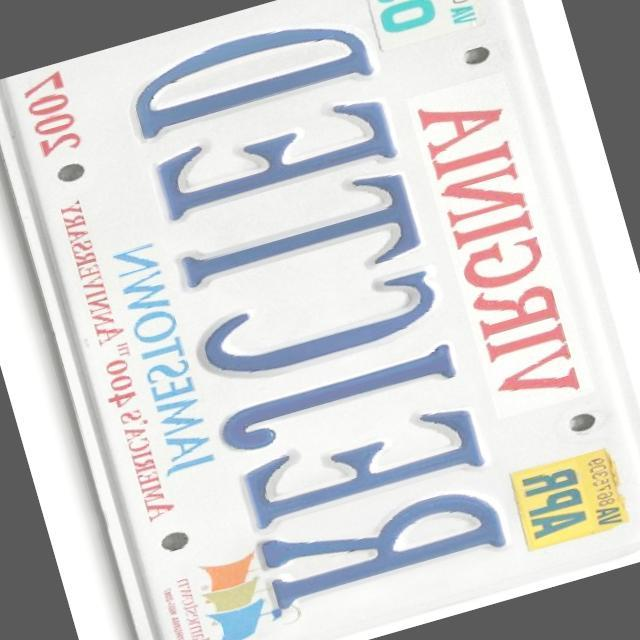Plat: (3, 2, 637, 639)
